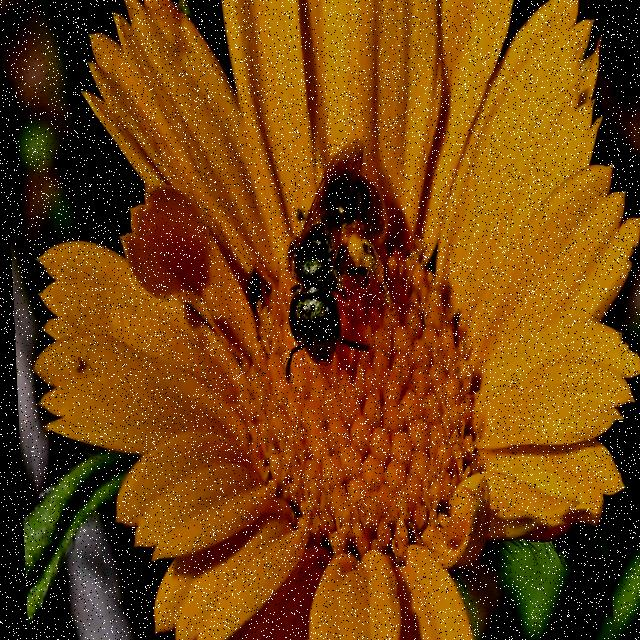Seladonia: (260, 131, 409, 397)
